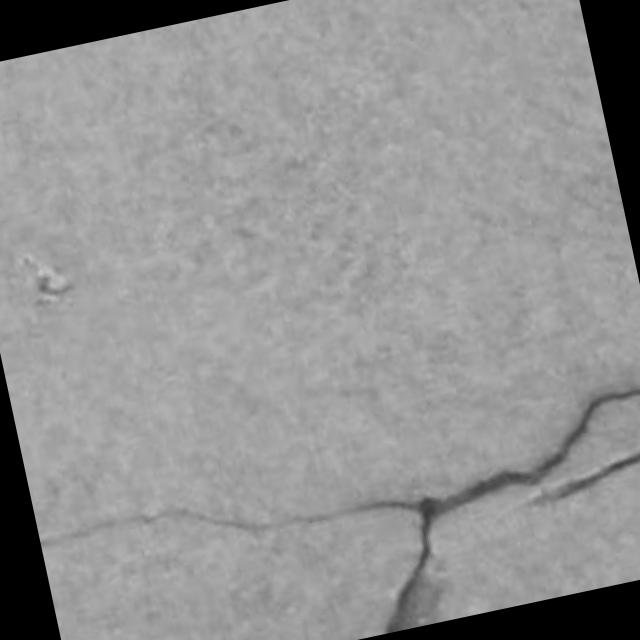crack: (40, 387, 639, 633), (385, 387, 639, 633), (431, 387, 639, 515), (40, 499, 417, 548), (384, 497, 439, 633), (529, 450, 639, 505)
